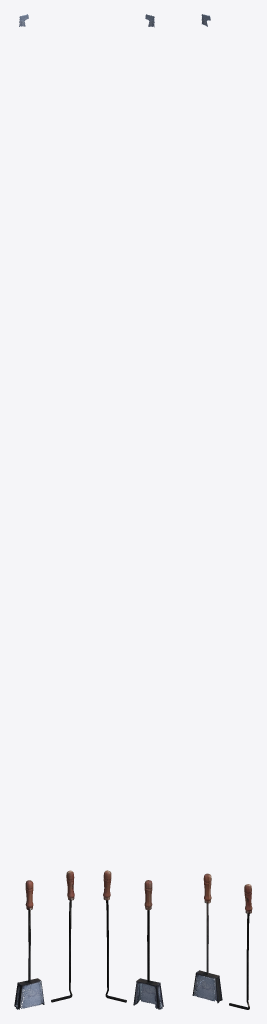
The model's file is soldering iron 3d model.glb.
The picture shows the model from 3 angles, left to right: view 1: azimuth 30°, elevation 25°; view 2: azimuth 150°, elevation 25°; view 3: azimuth 330°, elevation 25°; orthographic projection.
Visible parts, largest first — view 1: tripo_part_3; view 2: tripo_part_3, tripo_part_8; view 3: tripo_part_3.
Part boxes in pixels (<box>): tripo_part_3: <box>21,982,41,1008</box>; tripo_part_3: <box>141,983,161,1005</box>; tripo_part_8: <box>154,982,163,1009</box>; tripo_part_3: <box>194,977,214,1001</box>.
Bounding box in the file's own units: 0.4757 × 7.81 × 0.0687.
Materials: 28 (28 with a texture image).
